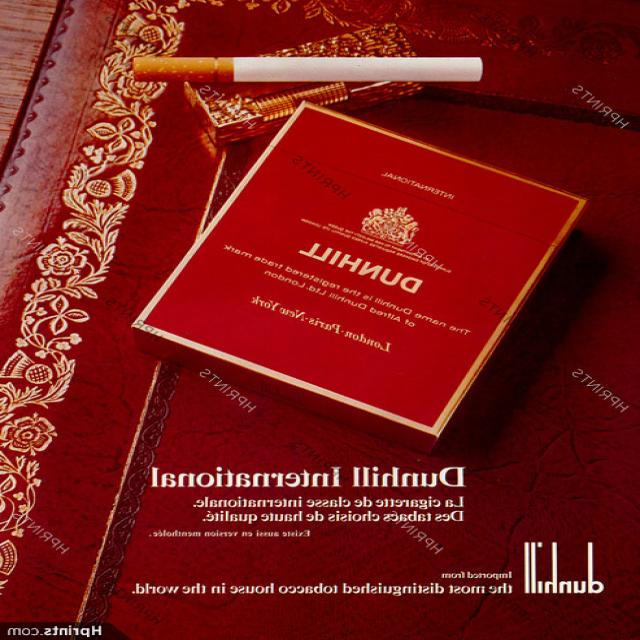dunhill: (131, 97, 588, 455)
